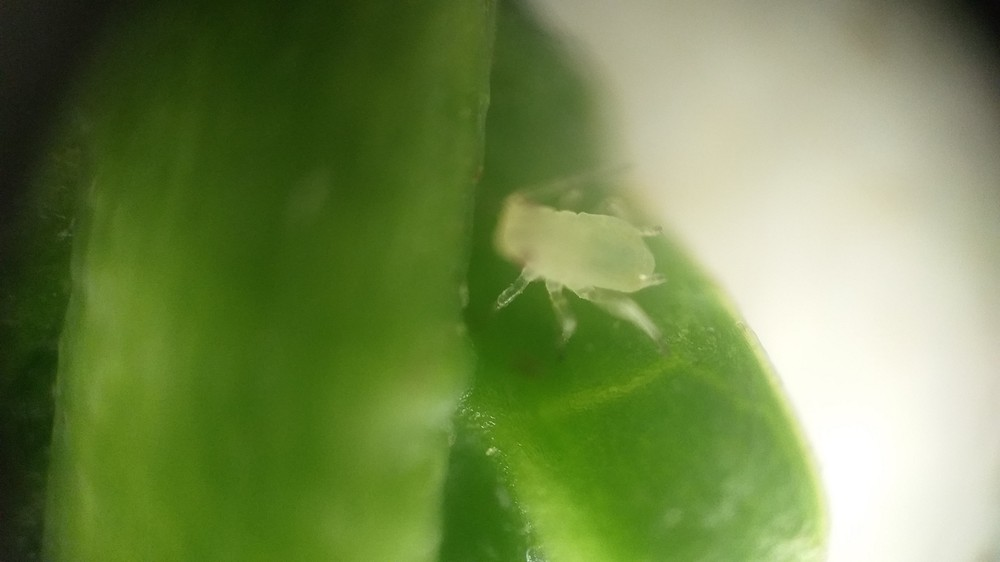Pulgon: (459, 148, 701, 379)
